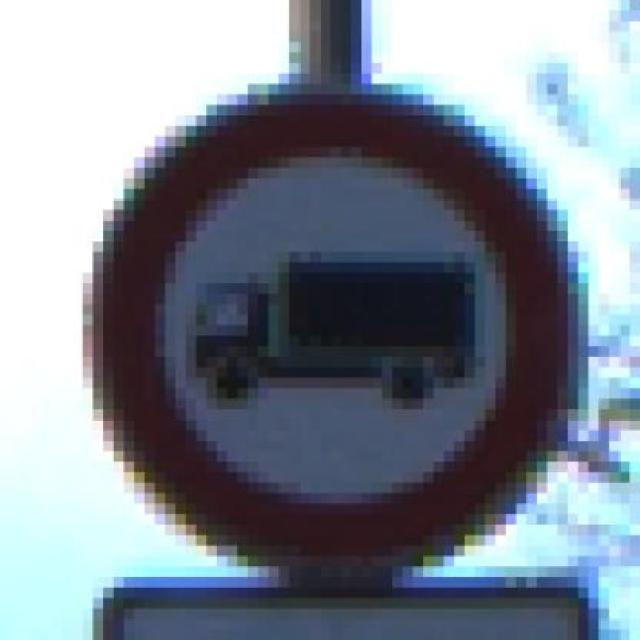Truck traffic is prohibited: (51, 74, 588, 588)
